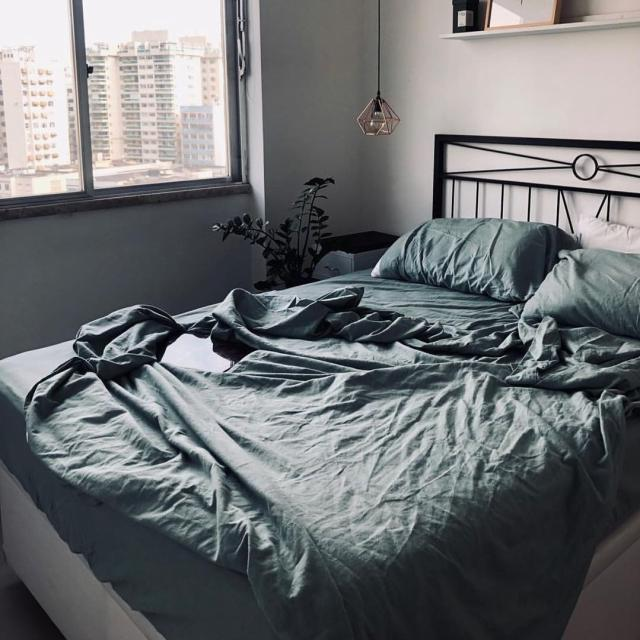bed: (17, 143, 630, 640)
